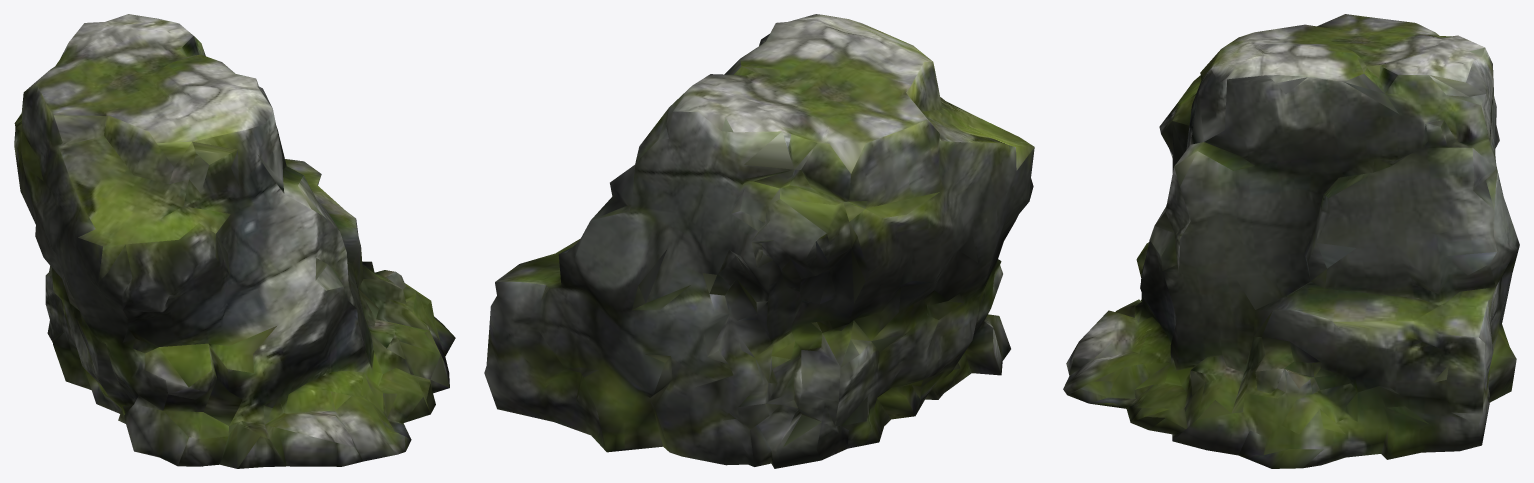
File: fels-mooshaufen.glb
3 renders of one model, left to right at view 1: azimuth 30°, elevation 25°; view 2: azimuth 150°, elevation 25°; view 3: azimuth 270°, elevation 25°, orthographic. The views are drawn at different scales.
Visible parts, largest first — view 1: Mesh_0; view 2: Mesh_0; view 3: Mesh_0.
Part boxes in pixels (x1=…): Mesh_0: x1=14, y1=14, x2=455, y2=468; Mesh_0: x1=484, y1=14, x2=1034, y2=468; Mesh_0: x1=1063, y1=14, x2=1519, y2=468.
Bounding box in the file's own units: 1.97 × 1.47 × 2.01.
1 material, 1 textured.
